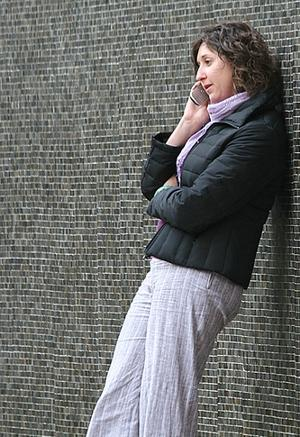person: (86, 20, 280, 437)
